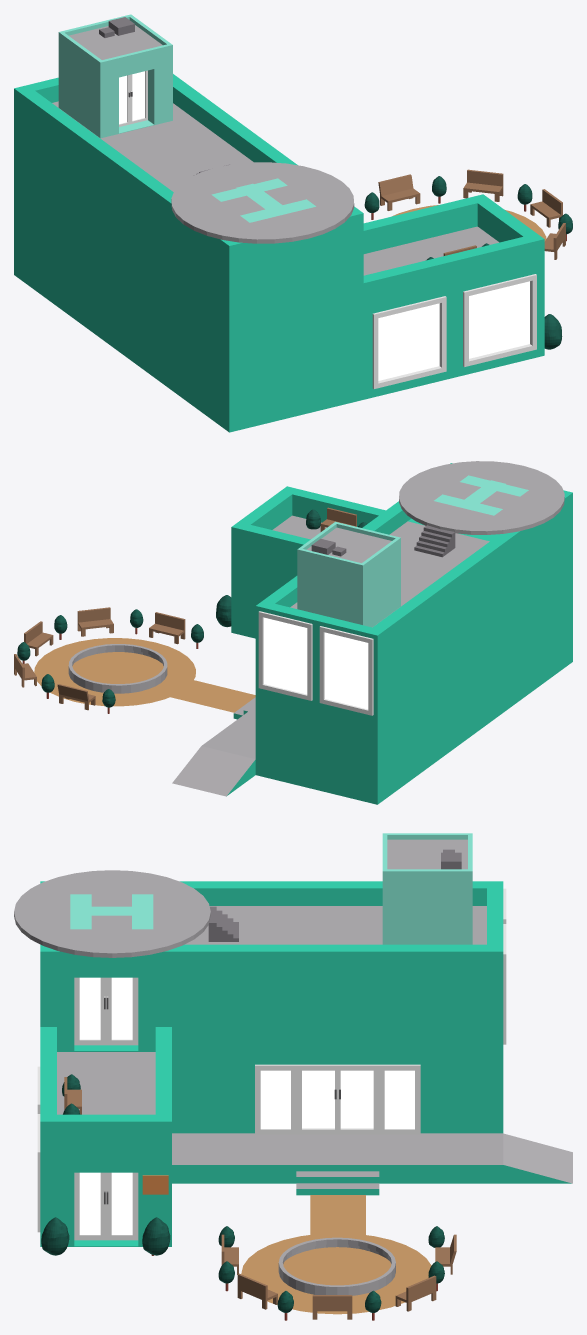
File: hospital.gltf
The picture shows the model from 3 angles, top to bottom: view 1: azimuth 30°, elevation 25°; view 2: azimuth 150°, elevation 25°; view 3: azimuth 270°, elevation 25°; orthographic projection. The views are drawn at different scales.
Visible parts, largest first — view 1: Cube, windows, sideWindow; view 2: Cube, sideWindow; view 3: Cube, windows, door.
Boxes of the visible parts, x1=… form: Cube: x1=14, y1=14, x2=572, y2=432; windows: x1=378, y1=281, x2=529, y2=380; sideWindow: x1=119, y1=71, x2=144, y2=123; Cube: x1=14, y1=461, x2=572, y2=804; sideWindow: x1=263, y1=617, x2=368, y2=709; Cube: x1=14, y1=833, x2=572, y2=1320; windows: x1=260, y1=1070, x2=414, y2=1128; door: x1=79, y1=977, x2=132, y2=1234.
Size of what is drawn, in the model's own units: 21.21 by 10.79 by 20.21.
Materials: 2 (1 with a texture image).
